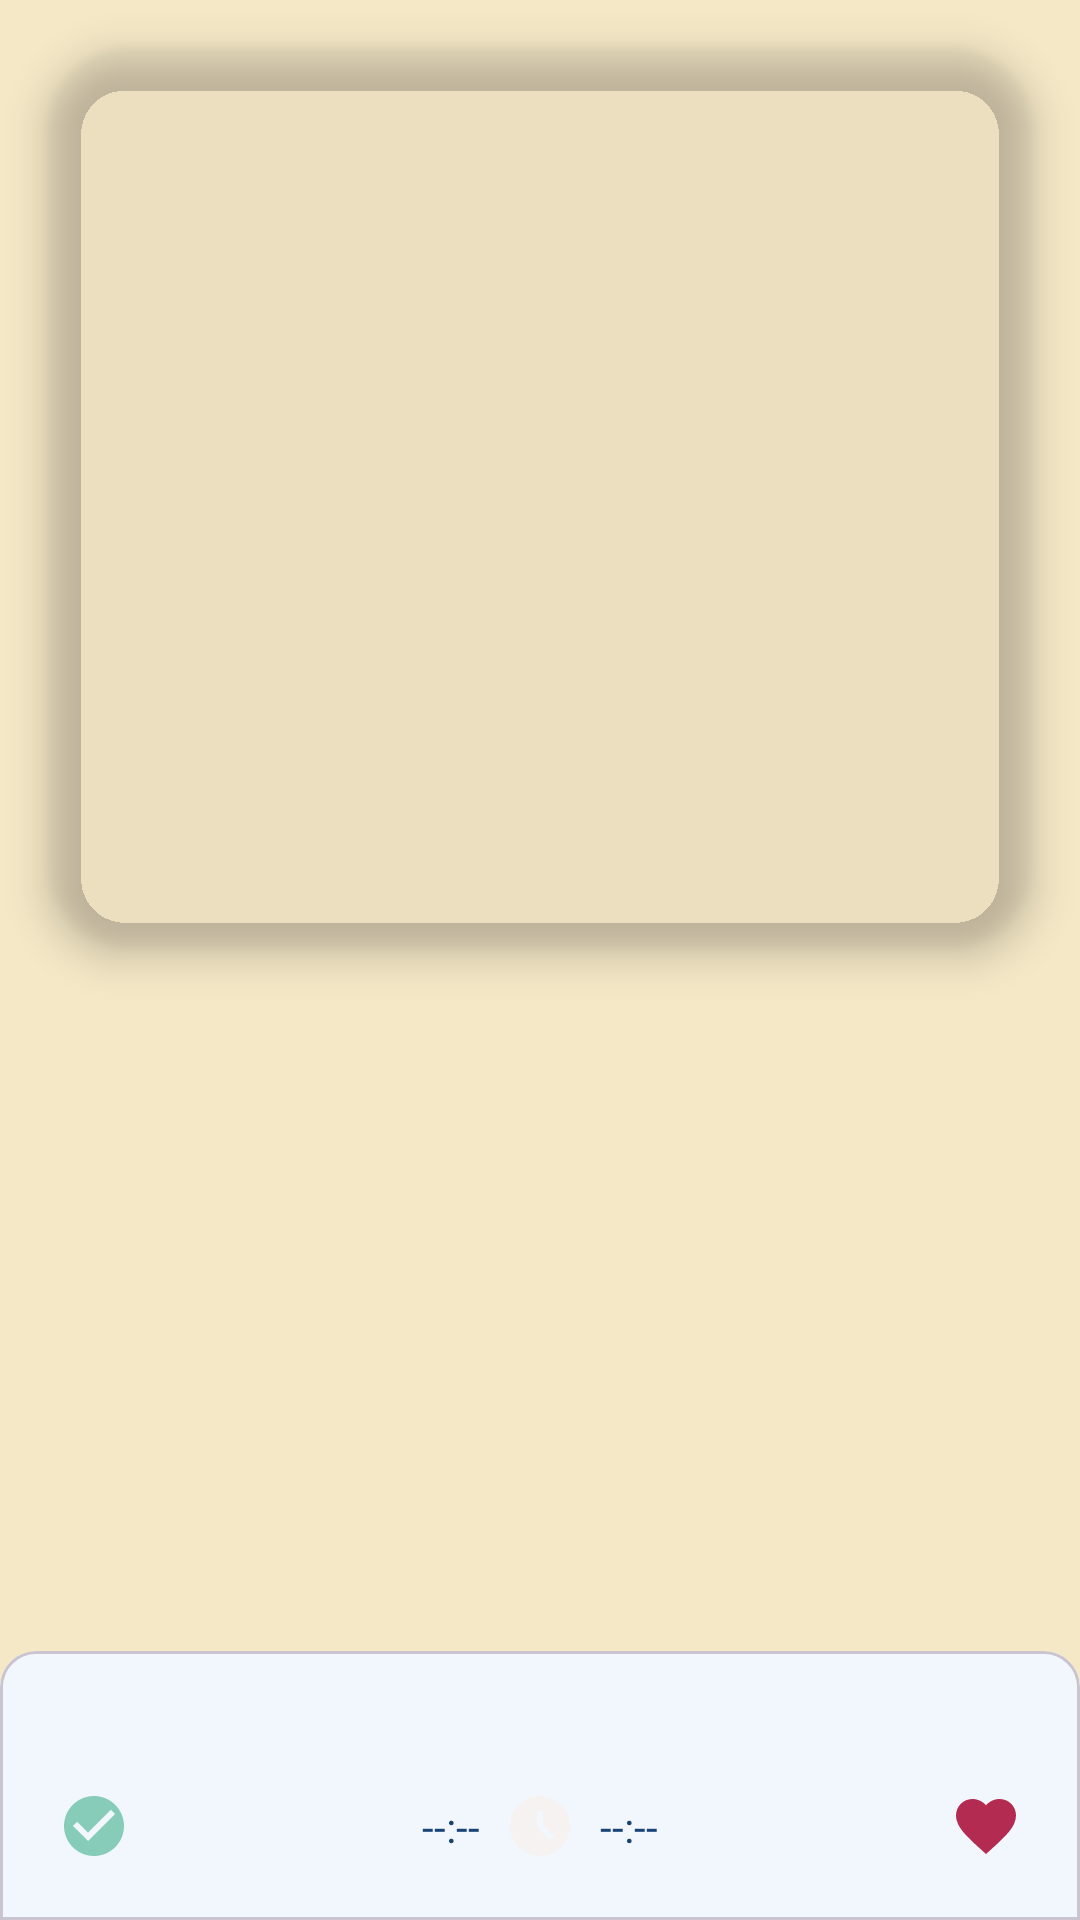

Screen size 1080px×1920px. Icon name, then its center in pixels as (x,y):
Completed flag: (94,1826)
Favorite flag: (986,1826)
